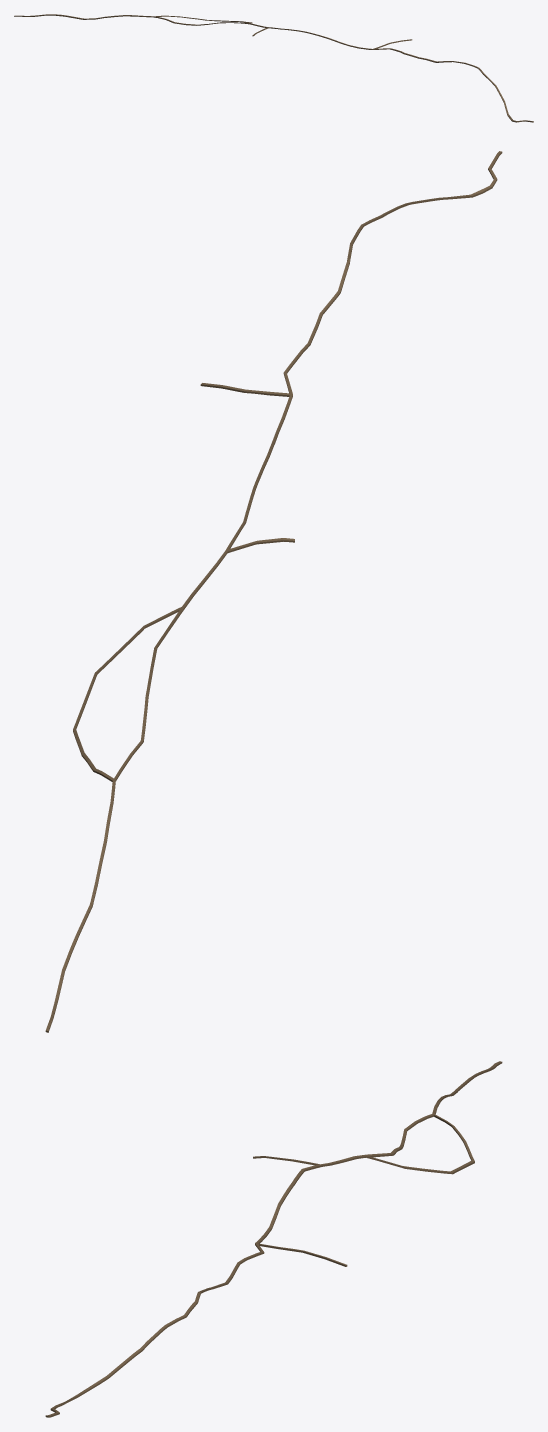
3 renders of one model, top to bottom at view 1: azimuth 30°, elevation 25°; view 2: azimuth 150°, elevation 25°; view 3: azimuth 330°, elevation 25°, orthographic. The views are drawn at different scales.
Size of the model in its own units: 145 by 120 by 584.
